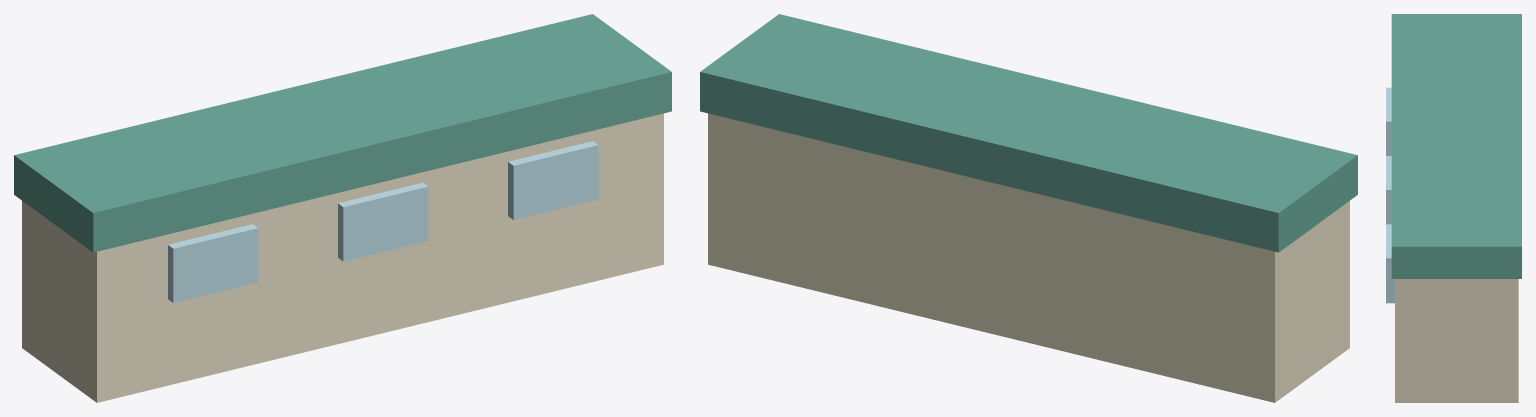
Rendered from train_01_prompt3d_raw.glb.
3 renders of one model, left to right at view 1: azimuth 30°, elevation 25°; view 2: azimuth 150°, elevation 25°; view 3: azimuth 270°, elevation 25°, orthographic. The views are drawn at different scales.
Parts seen in each view (by area): view 1: asset_root; view 2: asset_root; view 3: asset_root.
Boxes of the visible parts, box(x1,y1,x2,y2) form: asset_root: box(14, 14, 671, 402); asset_root: box(700, 14, 1357, 402); asset_root: box(1386, 14, 1521, 402).
Bounding box in the file's own units: 2.45 × 0.78 × 0.605.
